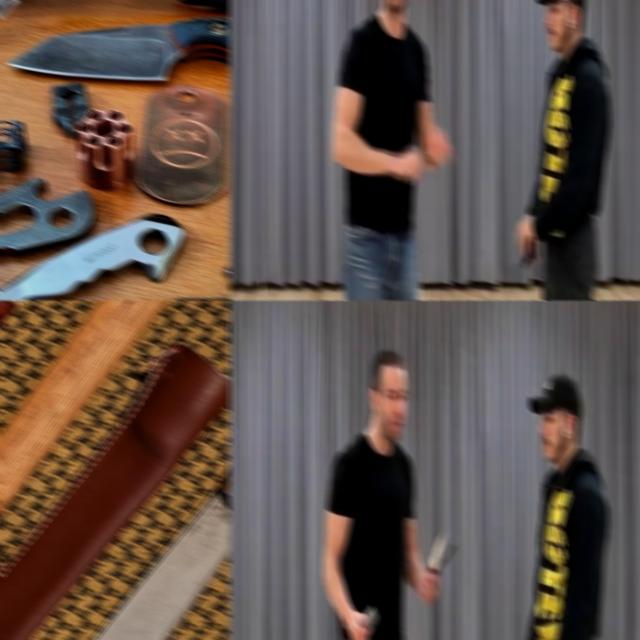Knife_Handle: (420, 542, 456, 604), (420, 529, 448, 603), (516, 214, 540, 270), (350, 605, 378, 640)
